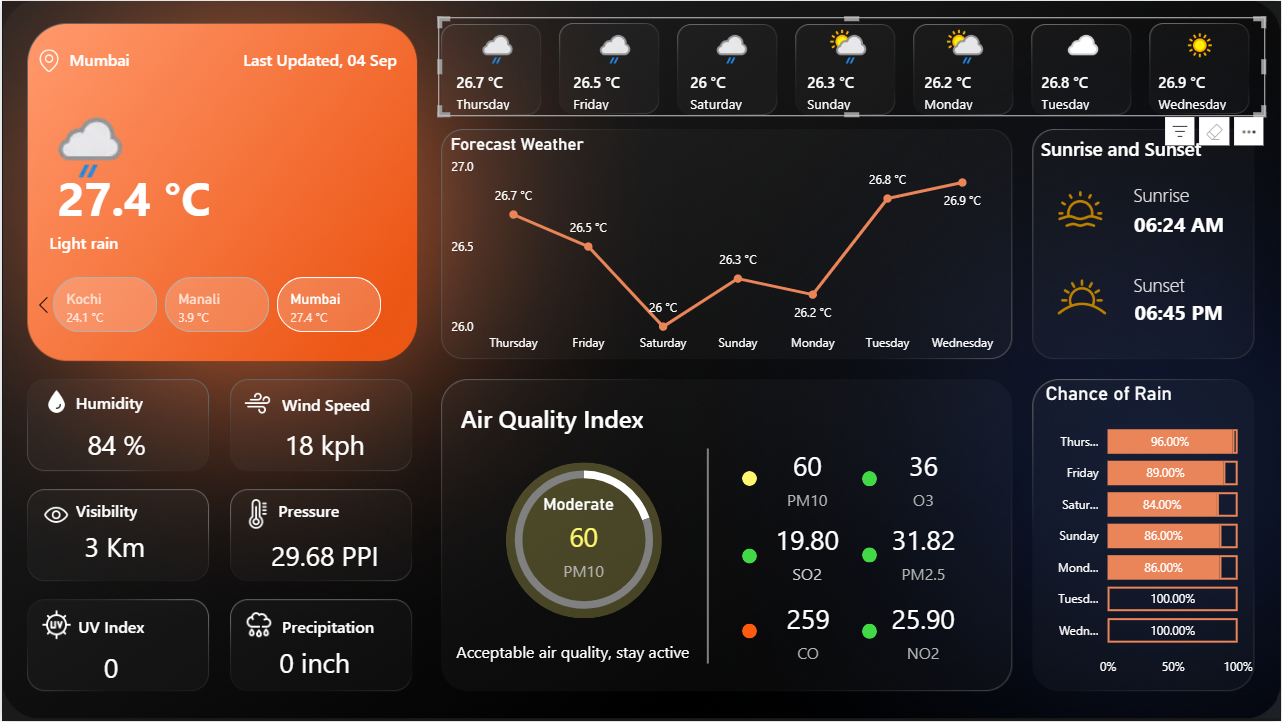

What the dashboard file says about the page in this screenshot:
{"tool":"powerbi","page":{"name":"Page 1","canvas":[1280,720],"ordinal":0},"visuals":[{"type":"advancedSlicerVisual","fields":{"Values":["Location.location.name"]},"box":[26.1,271.7,378.7,65.9],"z":0},{"type":"shape","box":[47.1,163.3,168.9,63.7],"z":1000},{"type":"shape","box":[47.1,227,155,27.7],"z":2000},{"type":"shape","box":[67.8,40.1,155,36],"z":3000},{"type":"shape","box":[240.8,44.3,164.7,27.7],"z":4000},{"type":"image","box":[26.3,44.3,41.5,31.8],"z":5000},{"type":"cardVisual","fields":{"Data":["Min(Current.current.condition.icon)"]},"box":[25.8,75.8,117.7,106.4],"z":6000},{"type":"image","box":[33.3,384.2,41.7,34.2],"z":7000},{"type":"image","box":[236.7,384.2,39.2,36.7],"z":8000},{"type":"image","box":[34.2,495,40,37.5],"z":9000},{"type":"image","box":[236.7,492.5,39.2,40],"z":10000},{"type":"image","box":[33.3,604.2,41.7,40],"z":11000},{"type":"image","box":[234.2,604.2,45.8,40],"z":12000},{"type":"shape","box":[74.2,387.5,69.2,27.5],"z":13000},{"type":"shape","box":[280,389.2,89.2,27.5],"z":14000},{"type":"shape","box":[74.2,495,69.2,27.5],"z":15000},{"type":"shape","box":[275.8,495,69.2,27.5],"z":16000},{"type":"shape","box":[75.8,610.8,69.2,27.5],"z":17000},{"type":"shape","box":[280,610.8,100,27.5],"z":18000},{"type":"card","fields":{"Values":["_Measures.Humidity_perc"]},"box":[74,419.7,81.5,49.8],"z":19000},{"type":"card","fields":{"Values":["_Measures.Wind_speed"]},"box":[265.7,419.7,113.2,49.8],"z":20000},{"type":"card","fields":{"Values":["_Measures.Pressure_per_inch"]},"box":[250.6,531.4,143.4,48.3],"z":21000},{"type":"card","fields":{"Values":["_Measures.Precip_per_in"]},"box":[264.2,638.6,98.1,48.3],"z":22000},{"type":"card","fields":{"Values":["Sum(Current.current.uv)"]},"box":[60.4,643.2,98.1,48.3],"z":23000},{"type":"card","fields":{"Values":["_Measures.visibility_km"]},"box":[63.4,522.4,98.1,48.3],"z":24000},{"type":"advancedSlicerVisual","fields":{"Values":["Forecast_Days.Day_Name"]},"box":[435.7,15.7,826.4,99.3],"z":25000},{"type":"lineChart","title":"Forecast Weather","fields":{"Y":["Sum(Forecast_Days.forecast.forecastday.day.avgtemp_c)"],"Category":["Forecast_Days.Day_Name"]},"box":[443.8,132.5,558.8,227.5],"z":26000},{"type":"shape","box":[1038.6,134.3,184.3,28.6],"z":27000},{"type":"shape","box":[1130.9,205.5,91.8,35.5],"z":28000},{"type":"shape","box":[1130.9,295.5,90.9,30.9],"z":29000},{"type":"shape","box":[1131.8,181.8,102.7,23.6],"z":30000},{"type":"shape","box":[1130.9,271.8,102.7,23.6],"z":31000},{"type":"image","box":[1047.3,181.8,60.9,53.6],"z":32000},{"type":"image","box":[1038.8,258.1,82.5,74.4],"z":33000},{"type":"hundredPercentStackedBarChart","title":"Chance of Rain","fields":{"Category":["Forecast_Days.Day_Name"],"Y":["Sum(Forecast_Days.forecast.forecastday.day.daily_chance_of_rain)","Current.Left_Value_Rain"]},"box":[1038.6,381.4,217.1,302.9],"z":34000},{"type":"shape","box":[458.6,390,195.7,54.3],"z":35000},{"type":"card","fields":{"Values":["Sum(Current.current.air_quality.pm10)"]},"box":[762.9,440,85.7,74.3],"z":36000},{"type":"card","fields":{"Values":["Sum(Current.current.air_quality.o3)"]},"box":[878.6,440,85.7,74.3],"z":37000},{"type":"card","fields":{"Values":["Sum(Current.current.air_quality.pm2_5)"]},"box":[878.6,514.3,85.7,74.3],"z":38000},{"type":"card","fields":{"Values":["Sum(Current.current.air_quality.so2)"]},"box":[762.9,514.3,85.7,74.3],"z":39000},{"type":"card","fields":{"Values":["Sum(Current.current.air_quality.co)"]},"box":[755.7,592.9,100,74.3],"z":40000},{"type":"card","fields":{"Values":["Sum(Current.current.air_quality.no2)"]},"box":[871.4,592.9,100,74.3],"z":41000},{"type":"shape","box":[740.6,470,15,15],"z":42000},{"type":"shape","box":[859.4,469.4,15,15.6],"z":43000},{"type":"shape","box":[859.4,546.7,15,15.6],"z":44000},{"type":"shape","box":[740.6,547.2,15,15],"z":45000},{"type":"shape","box":[740.6,622.8,15,15],"z":46000},{"type":"shape","box":[859.4,622.2,15,15.6],"z":47000},{"type":"shape","box":[640,447.5,131.7,215],"z":48000},{"type":"shape","box":[503.6,460.9,156.4,156.4],"z":48500},{"type":"card","fields":{"Values":["Sum(Current.current.air_quality.pm10)"]},"box":[536.4,492.7,90.9,91.8],"z":49000},{"type":"donutChart","fields":{"Y":["Sum(Current.current.air_quality.pm10)","_Measures.LEFT_VALUE_PM10"]},"box":[480.9,447.3,201.8,182.7],"z":50000},{"type":"shape","box":[450,622.7,241.8,54.5],"z":50001}]}

Visuals, with their boxes in screenshot pixels (x1, y1, x2, y2), scaled from the page's 1280x720 canvas onto the 1282x722 screenshot:
advancedSlicerVisual - Location.location.name: <region>26, 272, 405, 339</region>
shape: <region>47, 164, 216, 228</region>
shape: <region>47, 228, 202, 255</region>
shape: <region>68, 40, 223, 76</region>
shape: <region>241, 44, 406, 72</region>
image: <region>26, 44, 68, 76</region>
cardVisual - Min(Current.current.condition.icon): <region>26, 76, 144, 183</region>
image: <region>33, 385, 75, 420</region>
image: <region>237, 385, 276, 422</region>
image: <region>34, 496, 74, 534</region>
image: <region>237, 494, 276, 534</region>
image: <region>33, 606, 75, 646</region>
image: <region>235, 606, 280, 646</region>
shape: <region>74, 389, 144, 416</region>
shape: <region>280, 390, 370, 418</region>
shape: <region>74, 496, 144, 524</region>
shape: <region>276, 496, 346, 524</region>
shape: <region>76, 612, 145, 640</region>
shape: <region>280, 612, 381, 640</region>
card - _Measures.Humidity_perc: <region>74, 421, 156, 471</region>
card - _Measures.Wind_speed: <region>266, 421, 379, 471</region>
card - _Measures.Pressure_per_inch: <region>251, 533, 395, 581</region>
card - _Measures.Precip_per_in: <region>265, 640, 363, 689</region>
card - Sum(Current.current.uv): <region>60, 645, 159, 693</region>
card - _Measures.visibility_km: <region>63, 524, 162, 572</region>
advancedSlicerVisual - Forecast_Days.Day_Name: <region>436, 16, 1264, 115</region>
"Forecast Weather" lineChart: <region>444, 133, 1004, 361</region>
shape: <region>1040, 135, 1225, 163</region>
shape: <region>1133, 206, 1225, 242</region>
shape: <region>1133, 296, 1224, 327</region>
shape: <region>1134, 182, 1236, 206</region>
shape: <region>1133, 273, 1236, 296</region>
image: <region>1049, 182, 1110, 236</region>
image: <region>1040, 259, 1123, 333</region>
"Chance of Rain" hundredPercentStackedBarChart: <region>1040, 382, 1258, 686</region>
shape: <region>459, 391, 655, 446</region>
card - Sum(Current.current.air_quality.pm10): <region>764, 441, 850, 516</region>
card - Sum(Current.current.air_quality.o3): <region>880, 441, 966, 516</region>
card - Sum(Current.current.air_quality.pm2_5): <region>880, 516, 966, 590</region>
card - Sum(Current.current.air_quality.so2): <region>764, 516, 850, 590</region>
card - Sum(Current.current.air_quality.co): <region>757, 595, 857, 669</region>
card - Sum(Current.current.air_quality.no2): <region>873, 595, 973, 669</region>
shape: <region>742, 471, 757, 486</region>
shape: <region>861, 471, 876, 486</region>
shape: <region>861, 548, 876, 564</region>
shape: <region>742, 549, 757, 564</region>
shape: <region>742, 625, 757, 640</region>
shape: <region>861, 624, 876, 640</region>
shape: <region>641, 449, 773, 664</region>
shape: <region>504, 462, 661, 619</region>
card - Sum(Current.current.air_quality.pm10): <region>537, 494, 628, 586</region>
donutChart - Sum(Current.current.air_quality.pm10) x _Measures.LEFT_VALUE_PM10: <region>482, 449, 684, 632</region>
shape: <region>451, 624, 693, 679</region>
